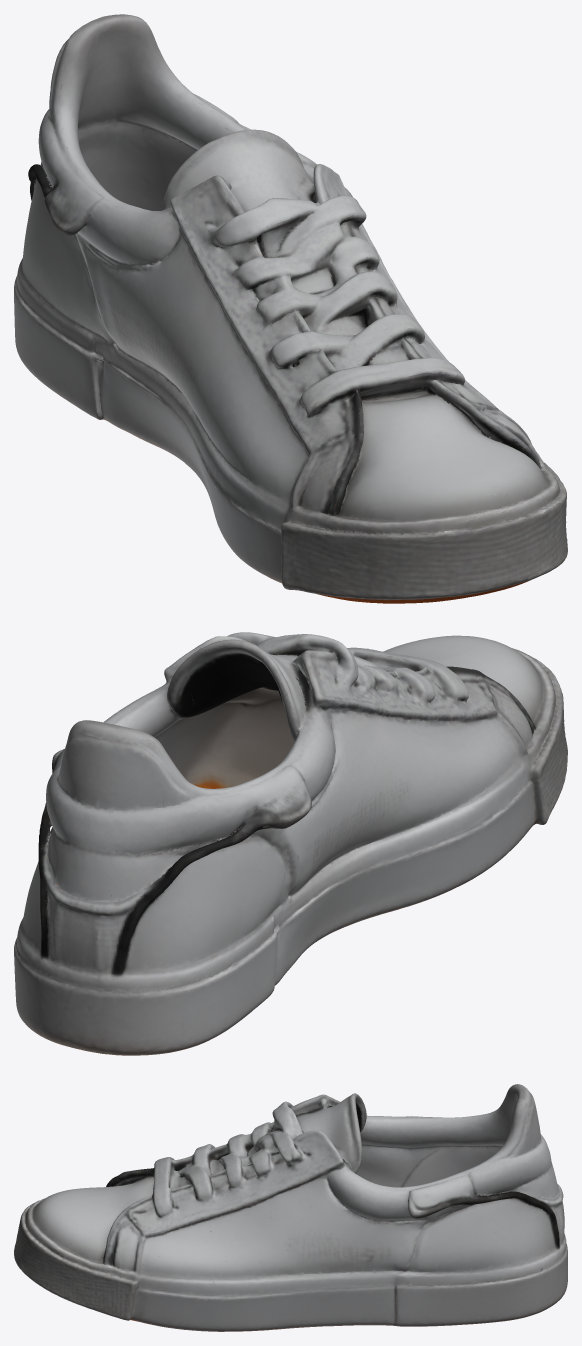
File: sneaker_trellis.glb
The picture shows the model from 3 angles, top to bottom: view 1: azimuth 30°, elevation 25°; view 2: azimuth 150°, elevation 25°; view 3: azimuth 270°, elevation 25°; orthographic projection. The views are drawn at different scales.
Visible parts, largest first — view 1: world; view 2: world; view 3: world.
Boxes of the visible parts, <box> form: world: <box>14,14,567,603</box>; world: <box>14,632,567,1055</box>; world: <box>14,1084,567,1331</box>.
Size of the model in its own units: 0.3693 by 0.4128 by 1.
1 material, 1 textured.
